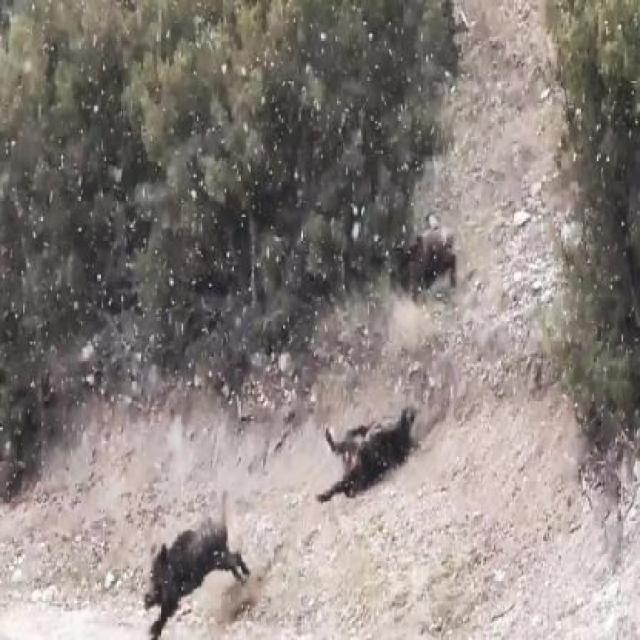Boar: (138, 495, 251, 640)
